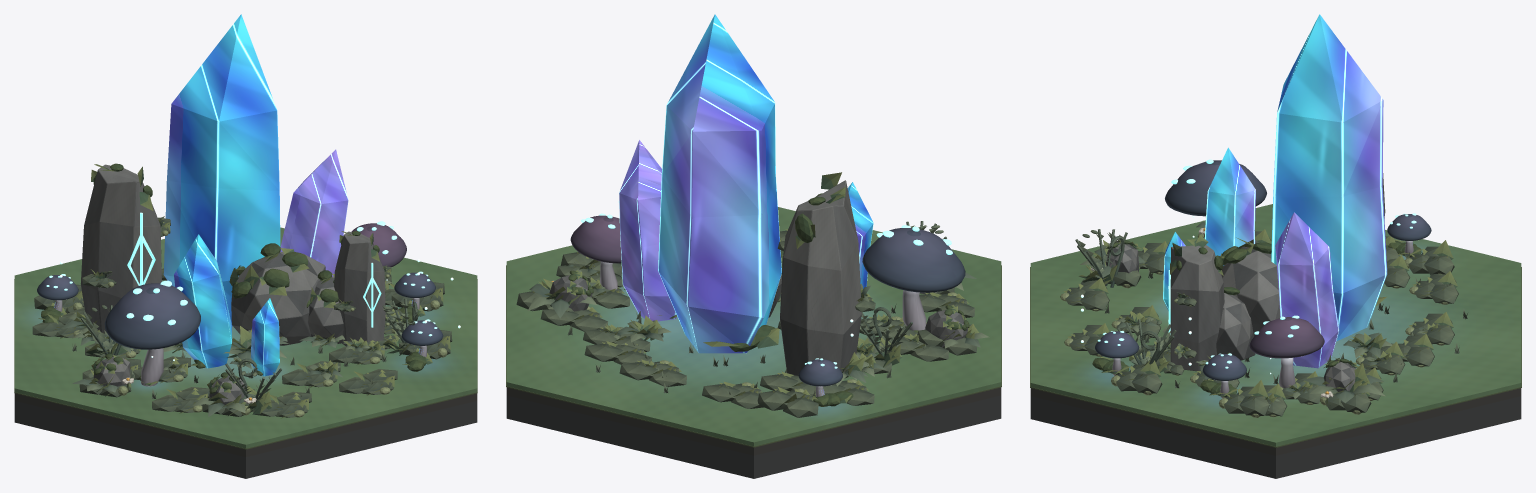
File: hex_crystal_grove.glb
3 views of the same model, side by side, from view 1: azimuth 30°, elevation 25°; view 2: azimuth 150°, elevation 25°; view 3: azimuth 270°, elevation 25° (orthographic). The views are drawn at different scales.
Visible parts, largest first — view 1: Standard hex meadow top.001, Faceted magical crystal.001, Standard hex stone foundation.001, Weathered shrine monolith.001, Faceted magical crystal.004, Broad faceted mushroom cap.001, Faceted magical crystal.002, Weathered shrine monolith.002, Angular mossy forest boulder.001, Standard hex earth layer.001, Faceted magical crystal.005, Angular mossy forest boulder.002 (+7 smaller); view 2: Standard hex meadow top.001, Faceted magical crystal.001, Standard hex stone foundation.001, Weathered shrine monolith.001, Faceted magical crystal.004, Broad faceted mushroom cap.001, Standard hex earth layer.001, Broad faceted mushroom cap.003, Faceted magical crystal.002, Broad faceted mushroom cap.005, Angular mossy forest boulder.003, Curving luminous mushroom stem.001 (+7 smaller); view 3: Standard hex meadow top.001, Faceted magical crystal.001, Standard hex stone foundation.001, Faceted magical crystal.004, Weathered shrine monolith.002, Standard hex earth layer.001, Faceted magical crystal.002, Angular mossy forest boulder.001, Broad faceted mushroom cap.003, Broad faceted mushroom cap.001, Angular mossy forest boulder.002, Broad faceted mushroom cap.005 (+5 smaller).
Boxes of the visible parts, left/top/right/bottom form: Standard hex meadow top.001: left=14, top=227, right=477, bottom=448; Faceted magical crystal.001: left=163, top=14, right=280, bottom=326; Standard hex stone foundation.001: left=14, top=401, right=477, bottom=478; Weathered shrine monolith.001: left=80, top=164, right=161, bottom=333; Faceted magical crystal.004: left=280, top=149, right=348, bottom=276; Broad faceted mushroom cap.001: left=104, top=283, right=200, bottom=349; Faceted magical crystal.002: left=174, top=234, right=231, bottom=368; Weathered shrine monolith.002: left=334, top=231, right=385, bottom=346; Angular mossy forest boulder.001: left=231, top=252, right=325, bottom=345; Standard hex earth layer.001: left=14, top=393, right=477, bottom=456; Faceted magical crystal.005: left=251, top=298, right=279, bottom=376; Angular mossy forest boulder.002: left=308, top=276, right=343, bottom=343; Standard hex meadow top.001: left=506, top=207, right=1001, bottom=446; Faceted magical crystal.001: left=658, top=14, right=781, bottom=353; Standard hex stone foundation.001: left=506, top=395, right=1001, bottom=478; Weathered shrine monolith.001: left=780, top=180, right=861, bottom=378; Faceted magical crystal.004: left=619, top=140, right=676, bottom=321; Broad faceted mushroom cap.001: left=862, top=228, right=965, bottom=292; Standard hex earth layer.001: left=506, top=387, right=1001, bottom=455; Broad faceted mushroom cap.003: left=570, top=215, right=621, bottom=263; Faceted magical crystal.002: left=847, top=182, right=873, bottom=288; Broad faceted mushroom cap.005: left=798, top=359, right=842, bottom=386; Angular mossy forest boulder.003: left=925, top=310, right=967, bottom=347; Curving luminous mushroom stem.001: left=902, top=290, right=926, bottom=330; Standard hex meadow top.001: left=1030, top=204, right=1521, bottom=446; Faceted magical crystal.001: left=1271, top=14, right=1387, bottom=341; Standard hex stone foundation.001: left=1030, top=396, right=1521, bottom=478; Faceted magical crystal.004: left=1275, top=212, right=1339, bottom=368; Weathered shrine monolith.002: left=1170, top=245, right=1224, bottom=371; Standard hex earth layer.001: left=1030, top=388, right=1521, bottom=455; Faceted magical crystal.002: left=1204, top=147, right=1255, bottom=265; Angular mossy forest boulder.001: left=1221, top=246, right=1280, bottom=336; Broad faceted mushroom cap.003: left=1249, top=317, right=1324, bottom=358; Broad faceted mushroom cap.001: left=1165, top=160, right=1266, bottom=216; Angular mossy forest boulder.002: left=1216, top=293, right=1255, bottom=360; Broad faceted mushroom cap.005: left=1387, top=214, right=1431, bottom=240.
Size of the model in its own units: 5.11 by 3.51 by 4.42.
Materials: 43 (32 with a texture image).
